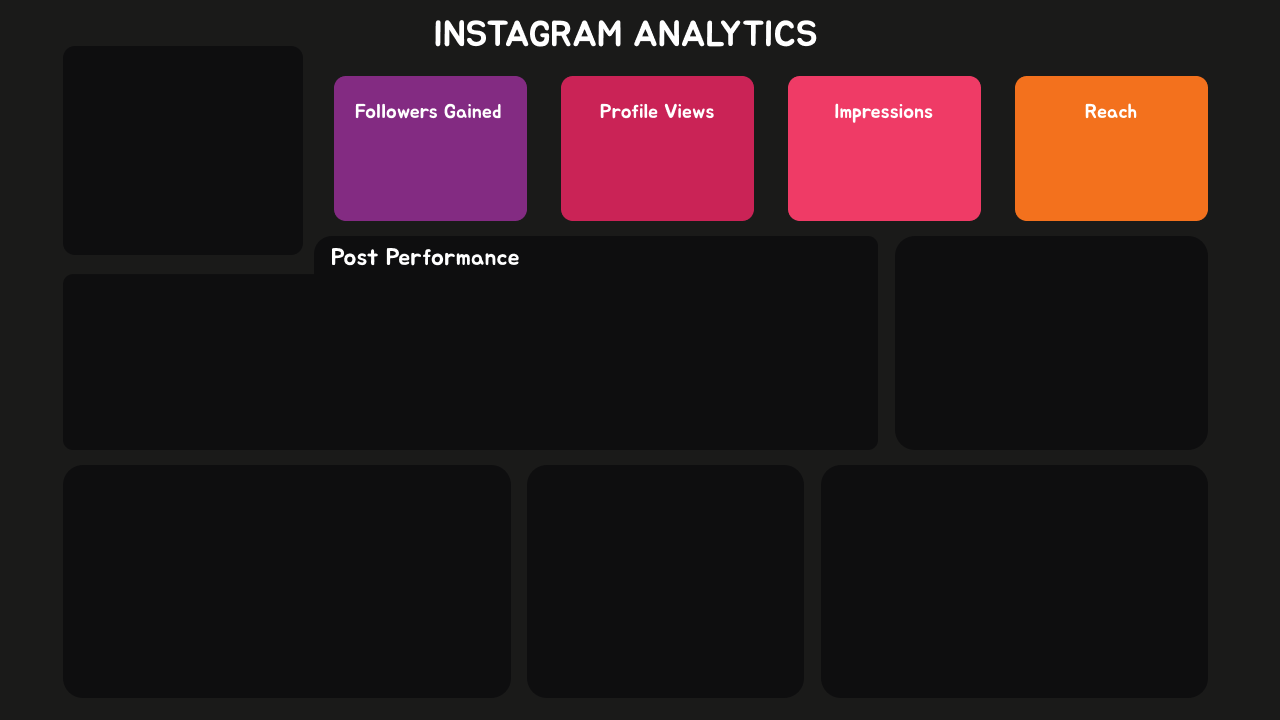

What the dashboard file says about the page in this screenshot:
{"tool":"powerbi","page":{"name":"Page 1","canvas":[1280,720],"ordinal":0},"visuals":[{"type":"card","title":"Followers Gained","fields":{"Values":["Sum(instagram_analytics_180_days.Followers Gained)"]},"box":[332.3,92.6,189.3,122],"z":0},{"type":"card","title":"Reach","fields":{"Values":["Sum(instagram_analytics_180_days.Reach)"]},"box":[1015.2,94,192.1,120.6],"z":1000},{"type":"card","title":"Profile Views","fields":{"Values":["Sum(instagram_analytics_180_days.Profile Visits)"]},"box":[562.3,94,189.3,120.6],"z":2000},{"type":"card","title":"Impressions","fields":{"Values":["Sum(instagram_analytics_180_days.Impressions)"]},"box":[788.1,99.6,192.1,115],"z":3000},{"type":"tableEx","fields":{"Values":["instagram_post_performance_100.Post ID","instagram_post_performance_100.Caption","Sum(instagram_post_performance_100.Likes)","Sum(instagram_post_performance_100.Comments)","Sum(instagram_post_performance_100.Saves)"]},"box":[74.3,263.6,549.7,176.7],"z":4000},{"type":"columnChart","fields":{"Category":["audience_country.Country"],"Y":["Sum(audience_country.Followers)"]},"box":[74.3,465.6,424.9,230],"z":5000},{"type":"lineChart","fields":{"Y":["CountNonNull(follower_growth.Date)"],"Category":["follower_growth.Followers"]},"box":[834.4,475.4,360.4,210.3],"z":6000},{"type":"donutChart","title":" Activity per Day","fields":{"Category":["audience_activity.Day"],"Y":["Sum(audience_activity.Activity)"]},"box":[910.1,239.8,284.7,200.5],"z":7000},{"type":"image","box":[101,65.9,172.5,162.7],"z":8000},{"type":"multiRowCard","fields":{"Values":["Sum(instagram_analytics_180_days.Followers Gained)","Sum(instagram_analytics_180_days.Followers Lost)"]},"box":[624,290.3,246.8,150],"z":9000},{"type":"barChart","fields":{"Y":["Avg(audience_activity.Activity)"],"Category":["audience_activity.Day"]},"box":[528.7,458.5,305.7,244],"z":10000}]}

Visuals, with their boxes in screenshot pixels (x1, y1, x2, y2), scaled from the page's 1280x720 canvas onto the 1280x720 screenshot:
"Followers Gained" card: <box>332,93,522,215</box>
"Reach" card: <box>1015,94,1207,215</box>
"Profile Views" card: <box>562,94,752,215</box>
"Impressions" card: <box>788,100,980,215</box>
tableEx - instagram_post_performance_100.Post ID x instagram_post_performance_100.Caption: <box>74,264,624,440</box>
columnChart - audience_country.Country x Sum(audience_country.Followers): <box>74,466,499,696</box>
lineChart - CountNonNull(follower_growth.Date) x follower_growth.Followers: <box>834,475,1195,686</box>
" Activity per Day" donutChart: <box>910,240,1195,440</box>
image: <box>101,66,274,229</box>
multiRowCard - Sum(instagram_analytics_180_days.Followers Gained) x Sum(instagram_analytics_180_days.Followers Lost): <box>624,290,871,440</box>
barChart - Avg(audience_activity.Activity) x audience_activity.Day: <box>529,458,834,702</box>
